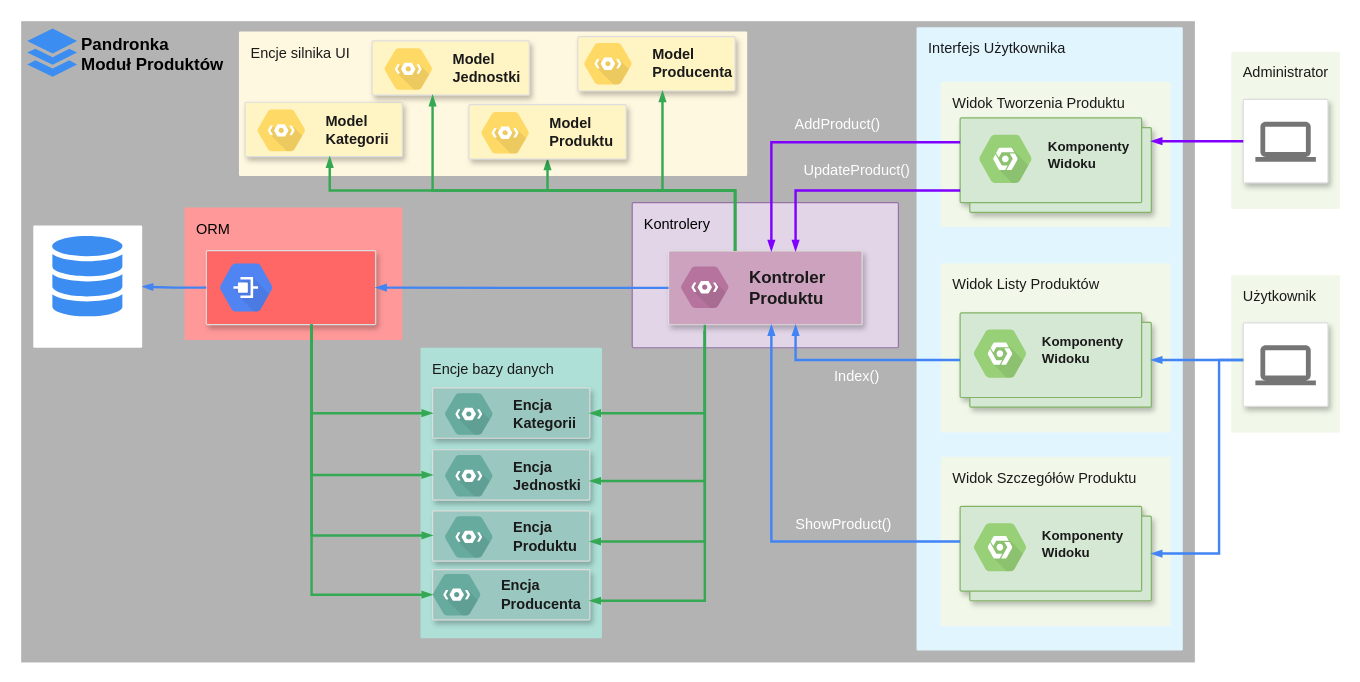
Image size: 1360x682. Some labels were removed from this diagram. Each missing label, with the centre of its shape:
"Adapter dostępowy" belongs at pixel 246 287.
"Baza danych" belongs at pixel 87 275.
